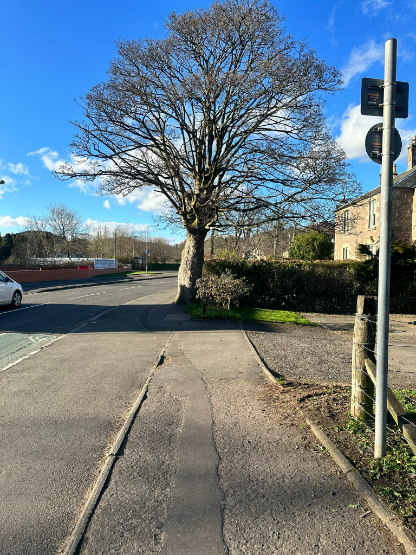car: (0, 268, 39, 312)
tree: (50, 0, 367, 326)
